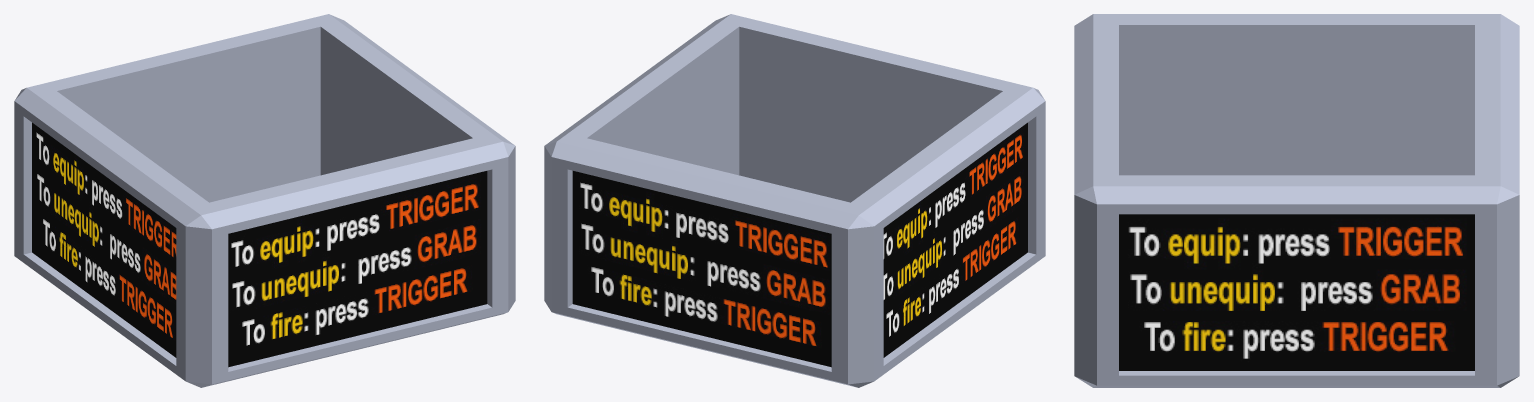
File: instructions.glb
3 views of the same model, side by side, from view 1: azimuth 30°, elevation 25°; view 2: azimuth 150°, elevation 25°; view 3: azimuth 270°, elevation 25° (orthographic). The views are drawn at different scales.
Visible parts, largest first — view 1: instructions; view 2: instructions; view 3: instructions.
Part boxes in pixels (left/top/right/bottom): instructions: left=14, top=14, right=515, bottom=387; instructions: left=544, top=14, right=1045, bottom=387; instructions: left=1074, top=14, right=1519, bottom=387.
Bounding box in the file's own units: 0.1216 × 0.0608 × 0.1216.
2 materials, 1 textured.
